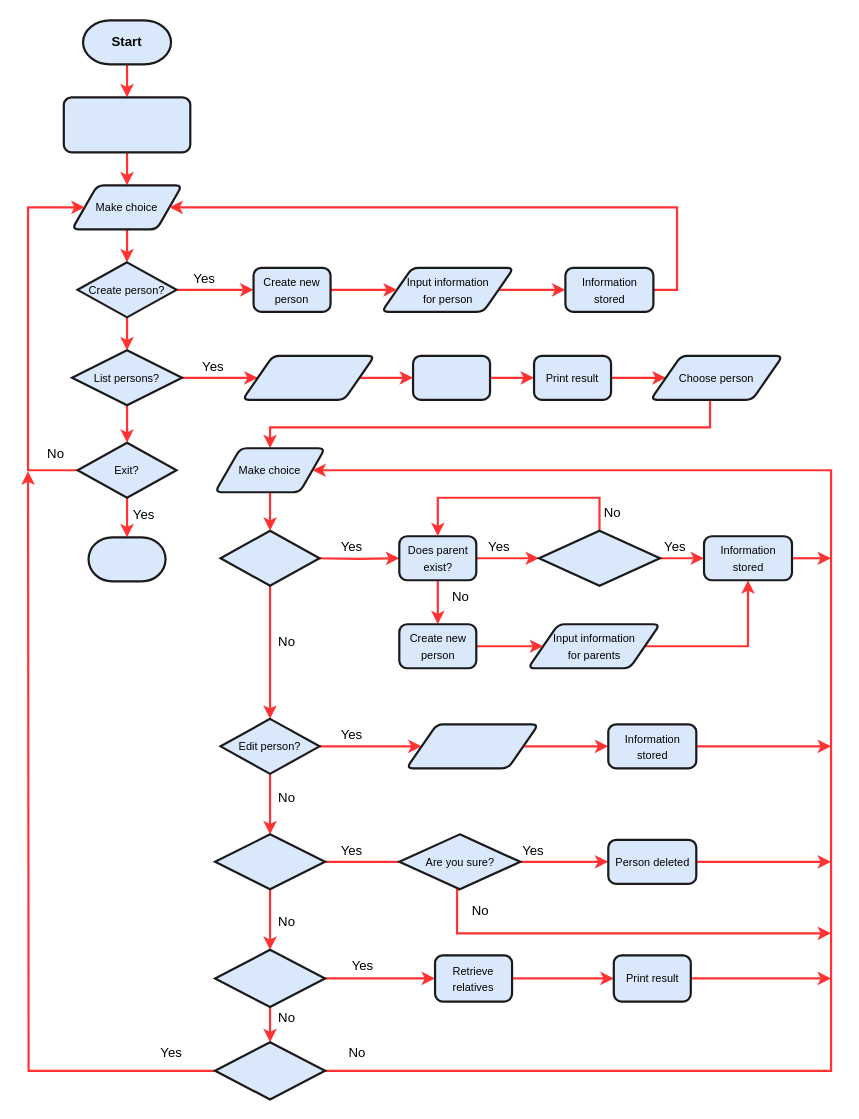
Image size: 859x1119. Some labels were removed from this diagram. The box of each missing label's shape, as (x1, y1, x2, y2) in pixels:
Choose parent?: (537, 529, 661, 586)
Delete person?: (213, 833, 326, 890)
End: (87, 536, 166, 582)
Enter conditions for search: (241, 354, 375, 400)
Go back?: (213, 1041, 326, 1100)
Input new information: (405, 723, 539, 769)
Retrieve persons: (411, 354, 491, 400)
Set parent?: (219, 529, 320, 586)
Setup (Creates database, table and inserts family): (62, 96, 191, 153)
Show relations?: (213, 948, 326, 1008)
